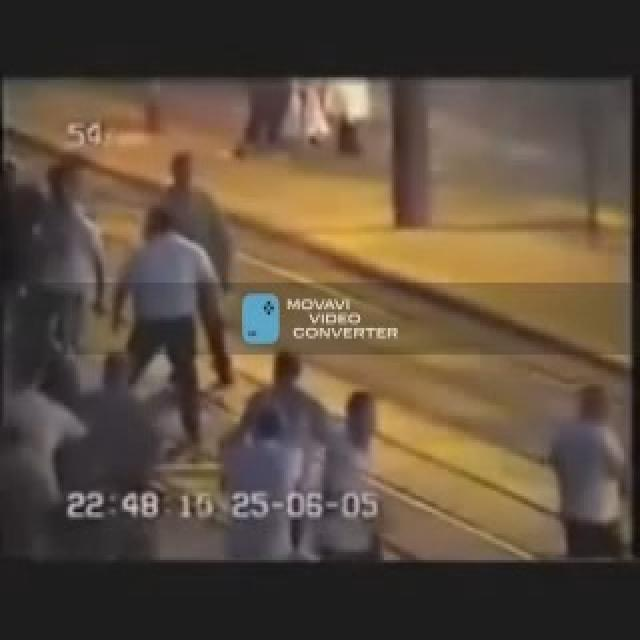non-voilence: (0, 75, 638, 562), (108, 203, 234, 456), (544, 382, 628, 558)
